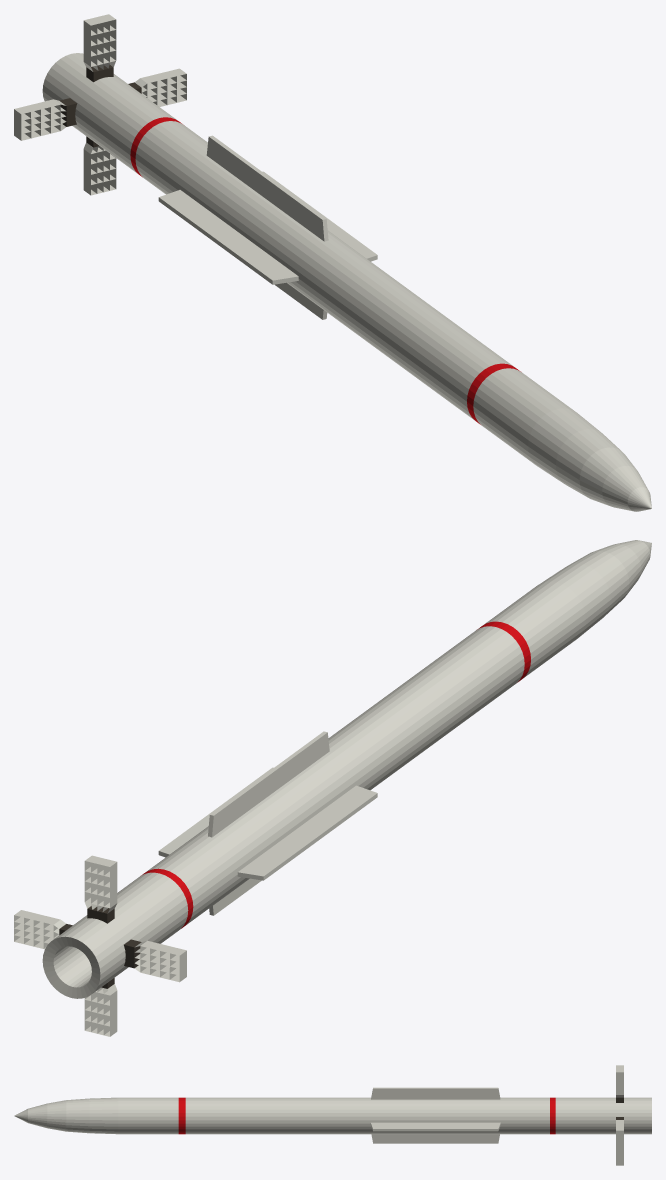
File: missile.glb
The picture shows the model from 3 angles, top to bottom: view 1: azimuth 30°, elevation 25°; view 2: azimuth 150°, elevation 25°; view 3: azimuth 270°, elevation 25°; orthographic projection. The views are drawn at different scales.
Visible parts, largest first — view 1: Cylinder; view 2: Cylinder; view 3: Cylinder.
Part boxes in pixels (<box>): Cylinder: <box>14,14,651,511</box>; Cylinder: <box>14,540,651,1036</box>; Cylinder: <box>14,1065,651,1165</box>.
Size of the model in its own units: 1.22 by 1.19 by 7.37.
